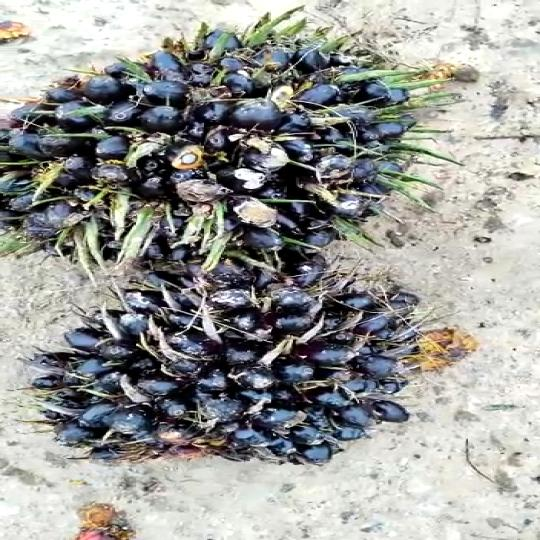mentah: (0, 30, 500, 286), (46, 280, 442, 479)
